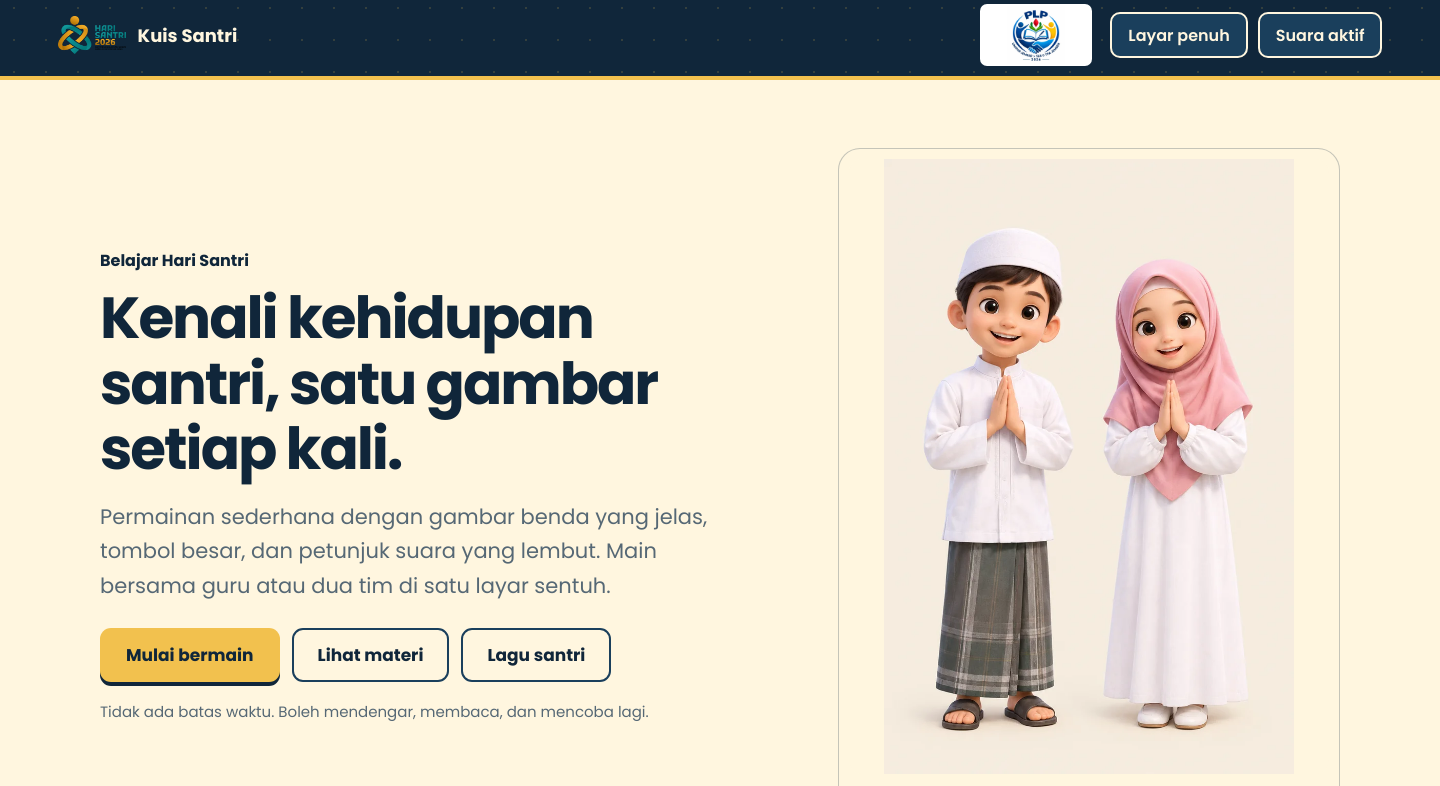
Test: alur aplikasi santri › memberi satu kesempatan ulang dan tidak memberi poin untuk jawaban kedua
Click the button "Mulai bermain". click: point(190, 655)
box: left=100, top=628, right=280, bottom=682
(page scrolled)
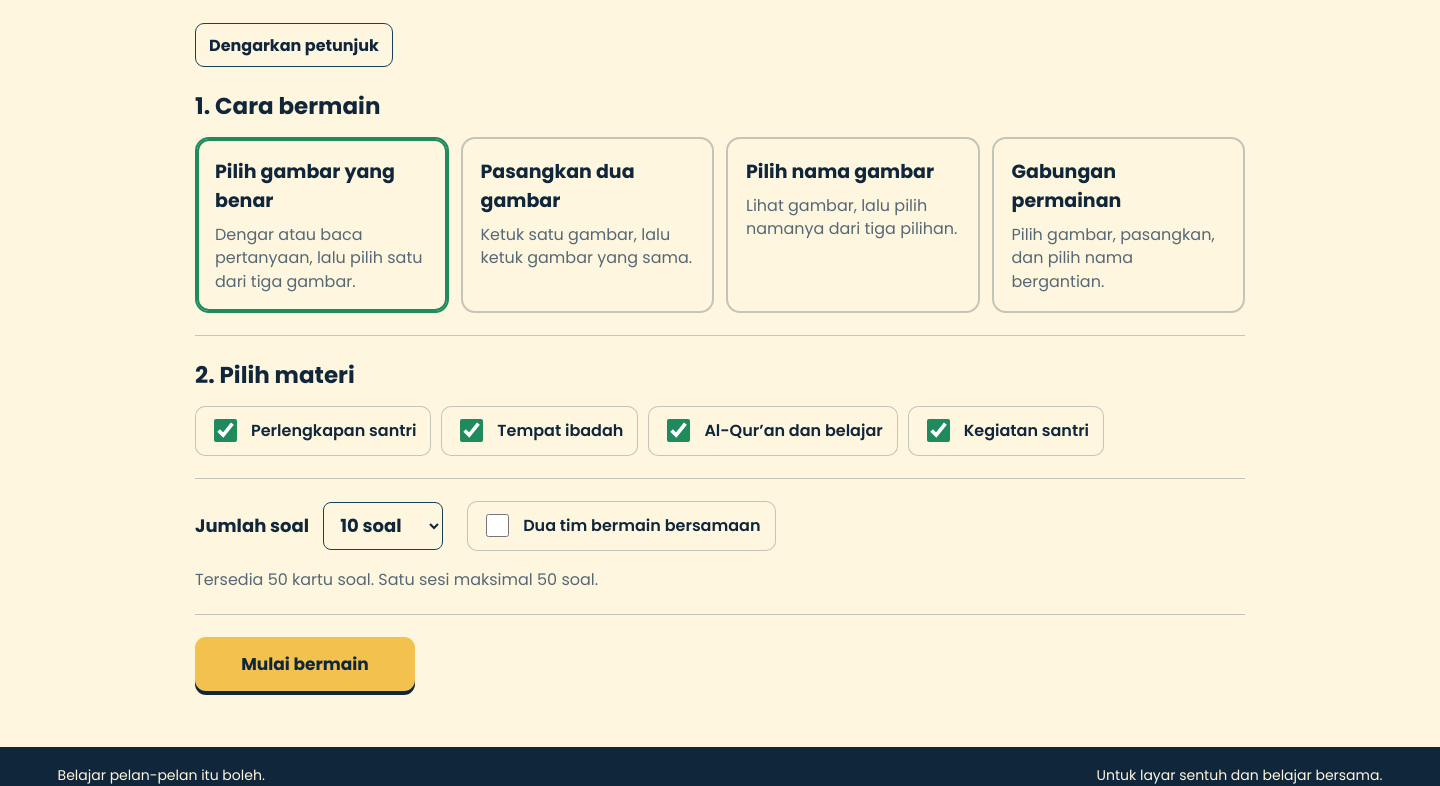
Select "1 soal" in the dropdown labelled "Jumlah soal". click: point(383, 526)
box: left=323, top=502, right=443, bottom=550
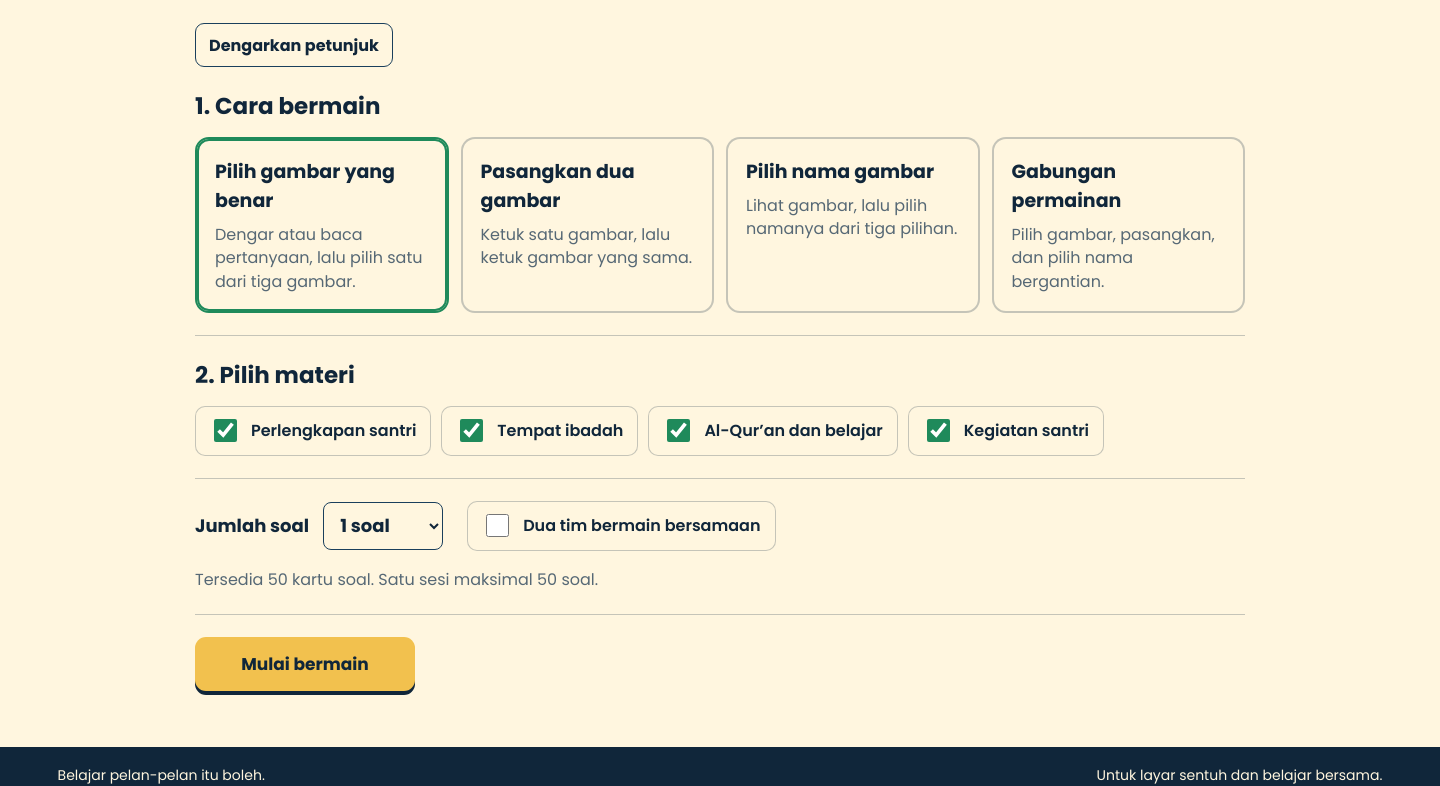
Click the button "Mulai bermain". click: point(305, 664)
box: left=195, top=637, right=415, bottom=691
(page scrolled)
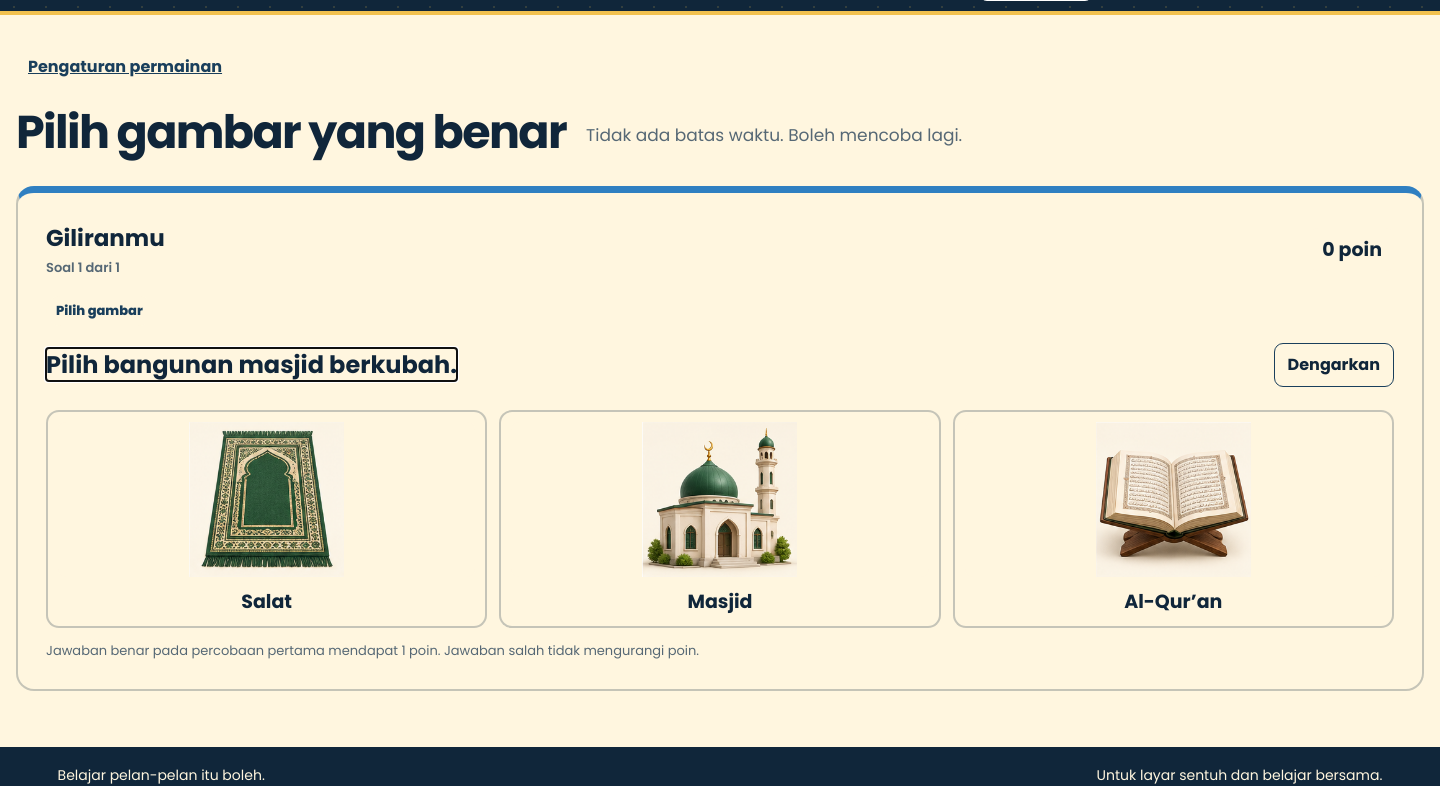
Click the button with class "answer-card" showing "Salat". click: point(267, 519)
box: left=46, top=410, right=487, bottom=628
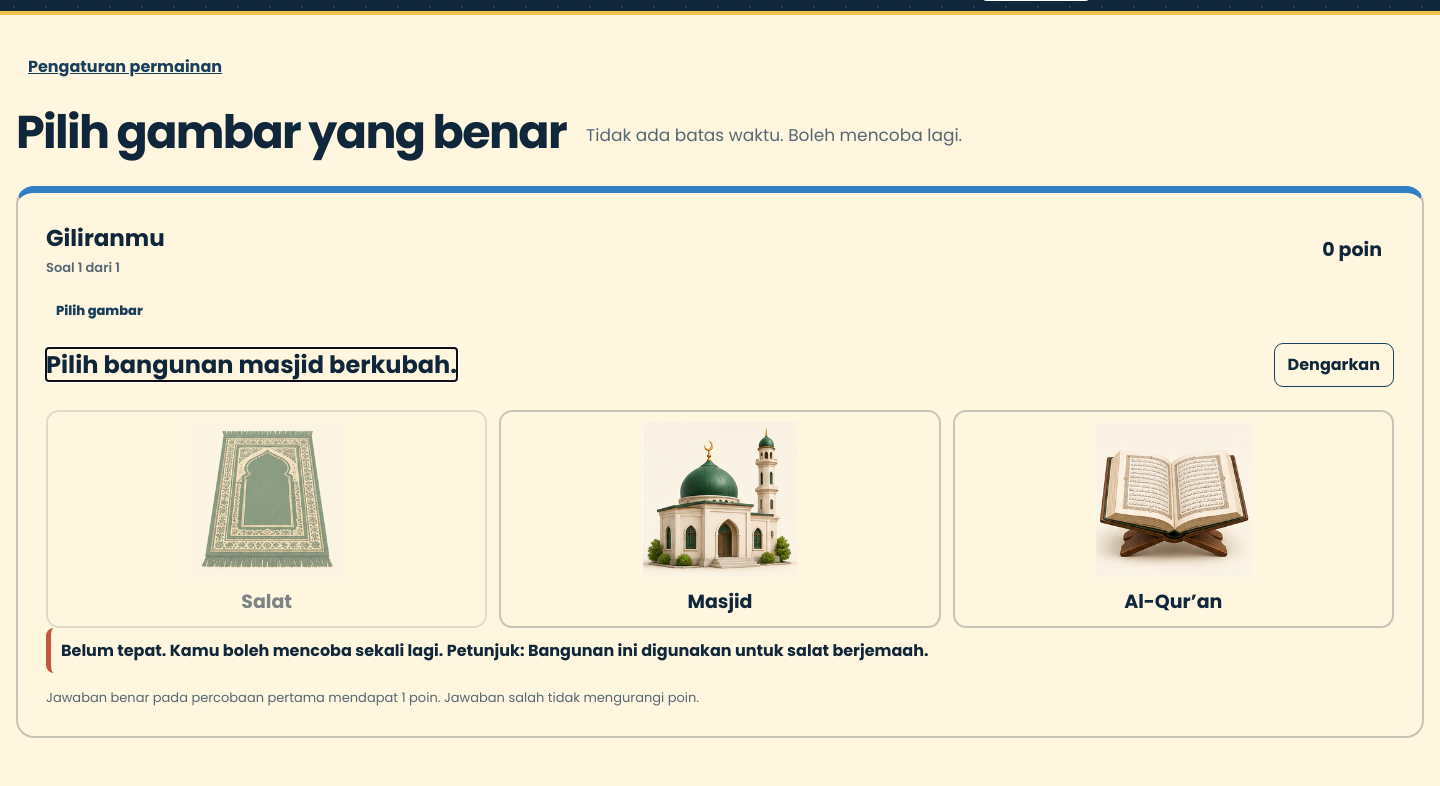
Check: the text "Belum tepat. Kamu boleh mencoba sekali lagi." is shown, box left=61, top=639, right=443, bottom=662
Click the button with class "answer-card" showing "Masjid". click: point(720, 519)
box: left=499, top=410, right=941, bottom=628
(page scrolled)
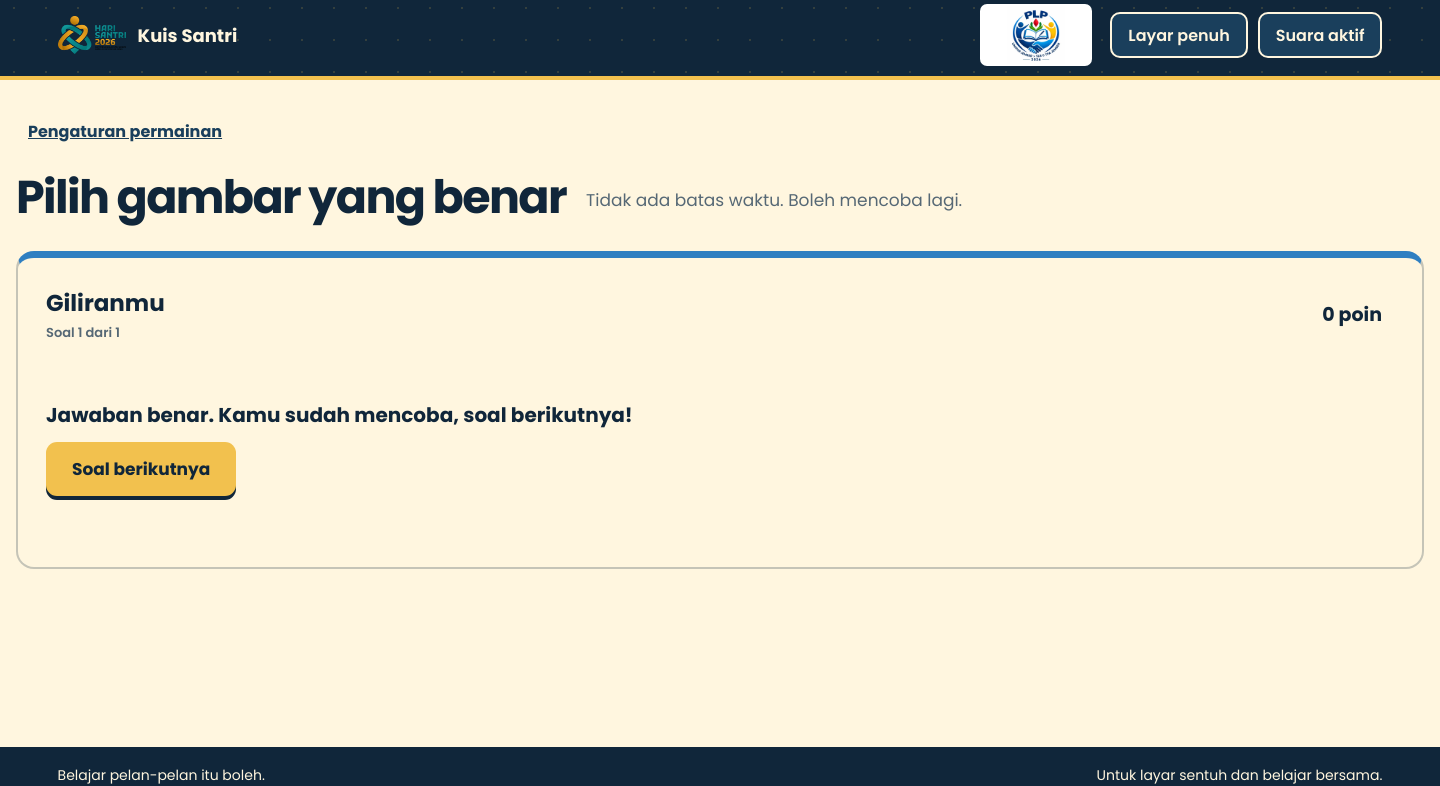
Check: the text "0 poin" is shown, box left=1310, top=293, right=1394, bottom=336
Check: the text "Jawaban benar. Kamu sudah mencoba" is shown, box left=46, top=402, right=633, bottom=430
Click the button "Soal berikutnya". click: point(141, 470)
box: left=46, top=442, right=236, bottom=496
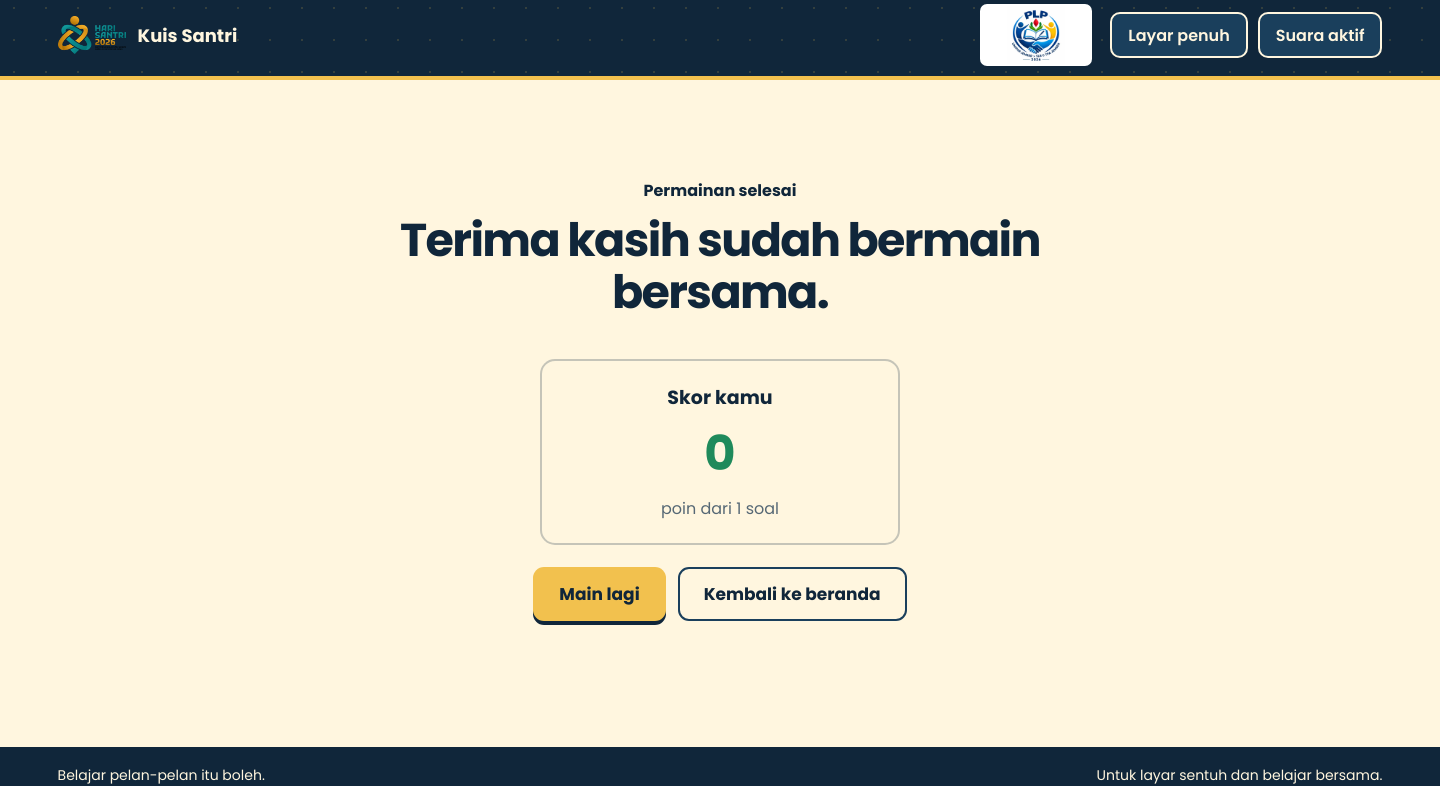
Check: the text "0" is shown, box left=704, top=420, right=736, bottom=487
Check: the text "Skor kamu" is shown, box left=667, top=384, right=773, bottom=411
